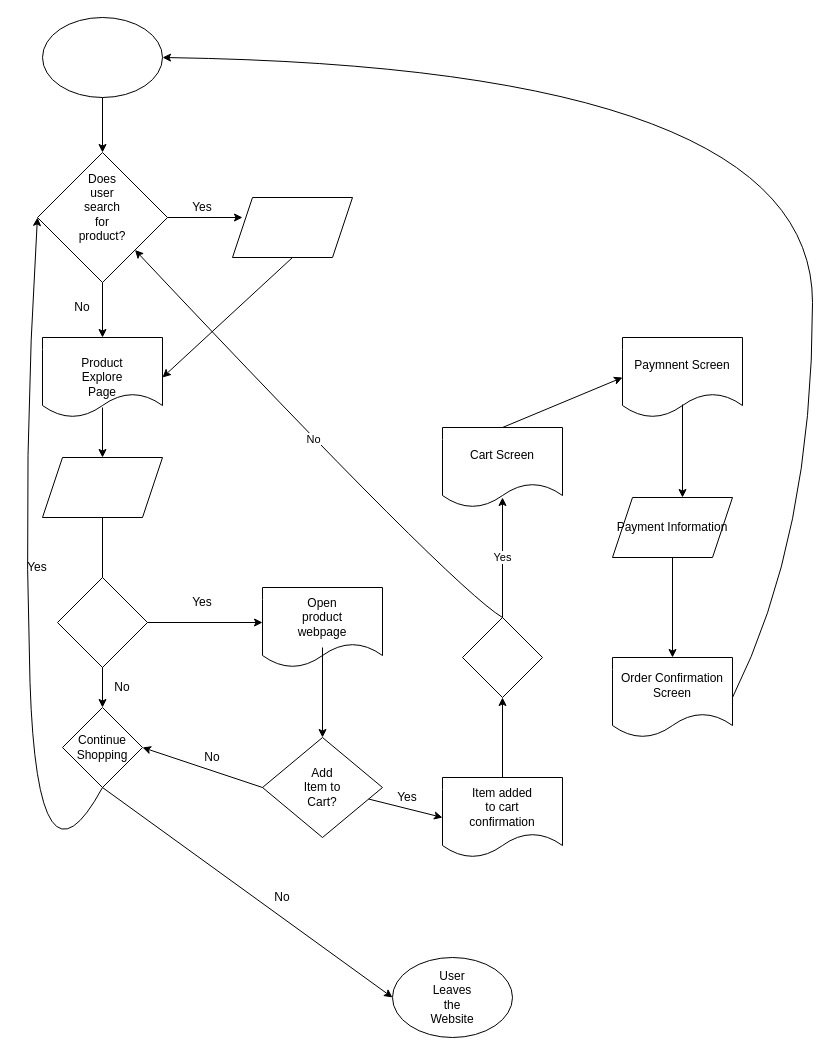
This 830x1055 diagram has some shape labels left out. The shapes that lost their labels are listed below. From the top down, each one's box as (x1, y1, x2, y2) in pixels, then its label:
(42, 16, 162, 98): User enters website
(232, 196, 352, 258): Product Name Search
(42, 456, 162, 518): User Selects a product
(56, 576, 148, 668): View Product?
(462, 616, 542, 698): Checkout?
